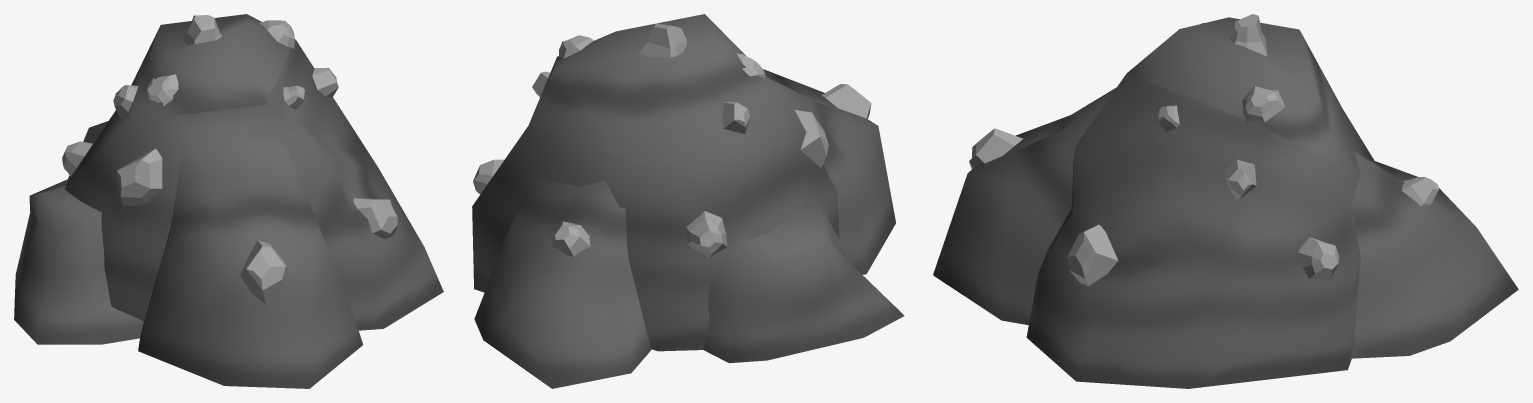
Rendered from Oress.fbx.
3 renders of one model, left to right at view 1: azimuth 30°, elevation 25°; view 2: azimuth 150°, elevation 25°; view 3: azimuth 270°, elevation 25°, orthographic. The views are drawn at different scales.
Parts seen in each view (by area): view 1: Ore; view 2: Ore; view 3: Ore.
Boxes of the visible parts, x1,y1,x2,y2 form: Ore: [14, 14, 443, 387]; Ore: [472, 14, 904, 388]; Ore: [933, 14, 1518, 388].
Bounding box in the file's own units: 10.55 × 6.97 × 13.21.
